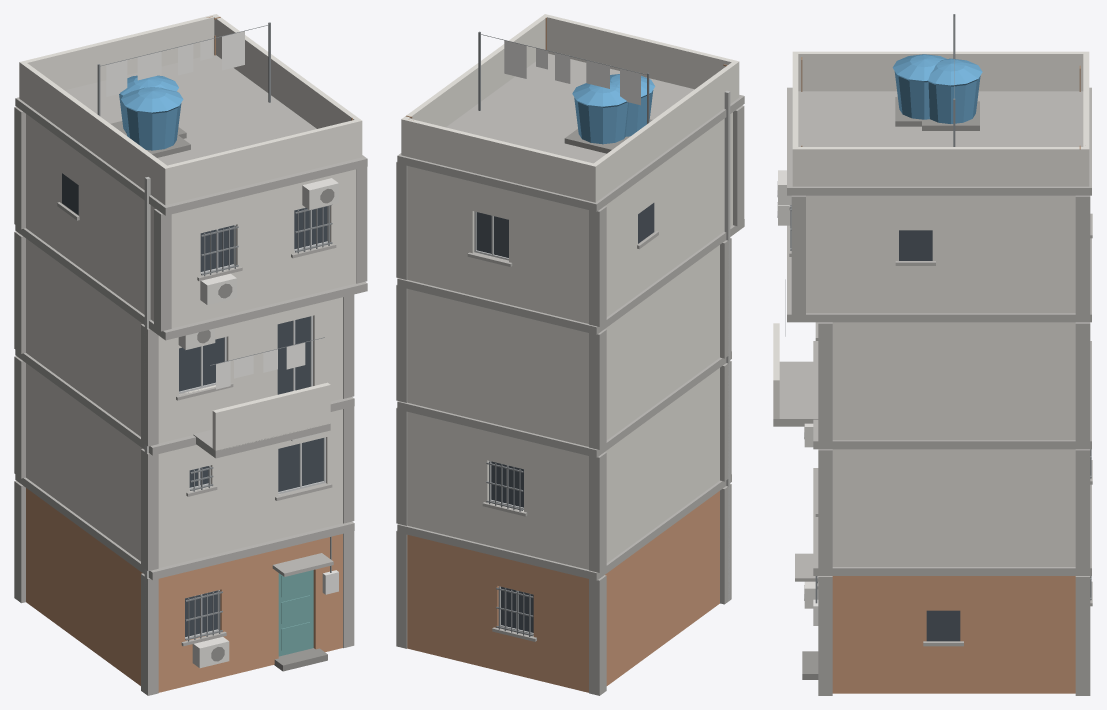
3 views of the same model, side by side, from view 1: azimuth 30°, elevation 25°; view 2: azimuth 150°, elevation 25°; view 3: azimuth 270°, elevation 25° (orthographic). The views are drawn at different scales.
Visible parts, largest first — view 1: fv_h13; view 2: fv_h13; view 3: fv_h13.
Part boxes in pixels (bbox=[...]): fv_h13: bbox=[14, 14, 367, 695]; fv_h13: bbox=[396, 14, 744, 695]; fv_h13: bbox=[773, 14, 1092, 695].
Bounding box in the file's own units: 5.02 × 13.47 × 6.62.
